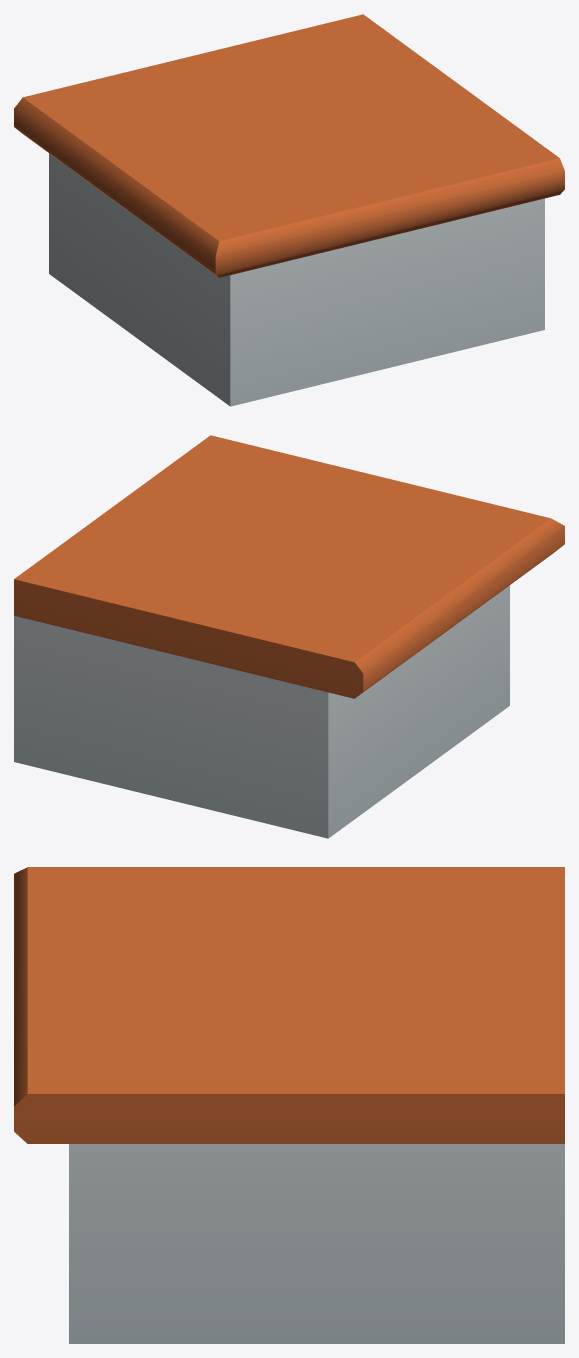
The model's file is counter-corner.glb.
The picture shows the model from 3 angles, top to bottom: view 1: azimuth 30°, elevation 25°; view 2: azimuth 150°, elevation 25°; view 3: azimuth 270°, elevation 25°; orthographic projection. The views are drawn at different scales.
Visible parts, largest first — view 1: kitchencounter_outercorner; view 2: kitchencounter_outercorner; view 3: kitchencounter_outercorner.
Part boxes in pixels (left/top/right/bottom): kitchencounter_outercorner: left=14, top=14, right=564, bottom=406; kitchencounter_outercorner: left=14, top=435, right=564, bottom=838; kitchencounter_outercorner: left=14, top=867, right=564, bottom=1343.
Size of the model in its own units: 2 by 1 by 2.
1 material, 1 textured.
